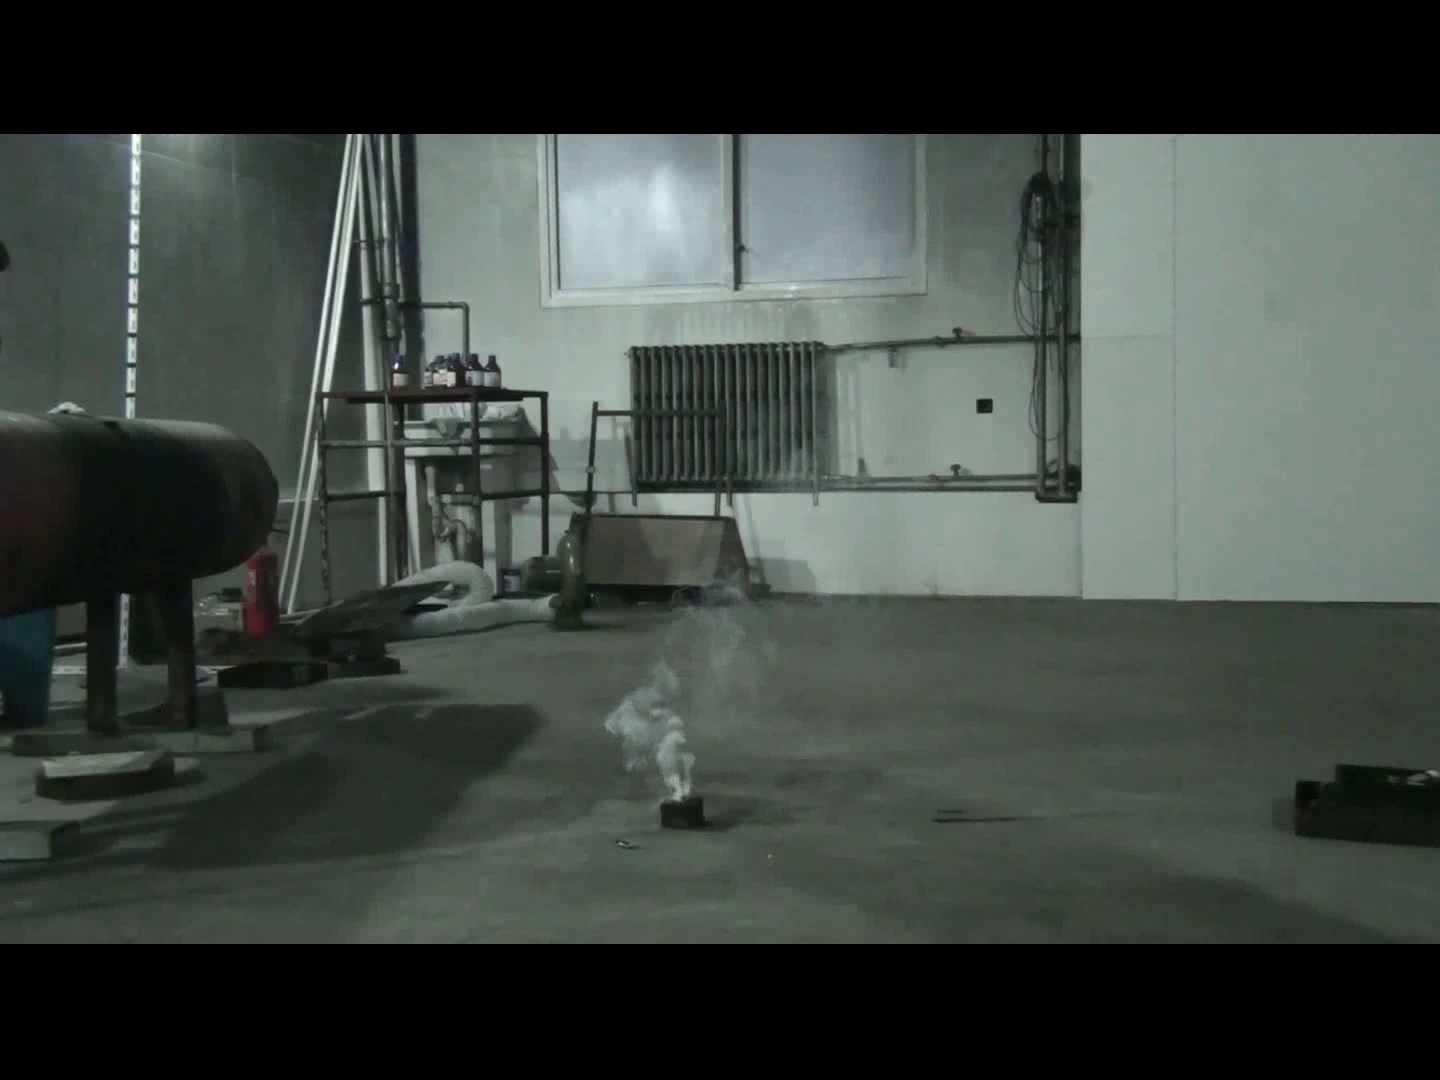smoke: (599, 563, 778, 801)
